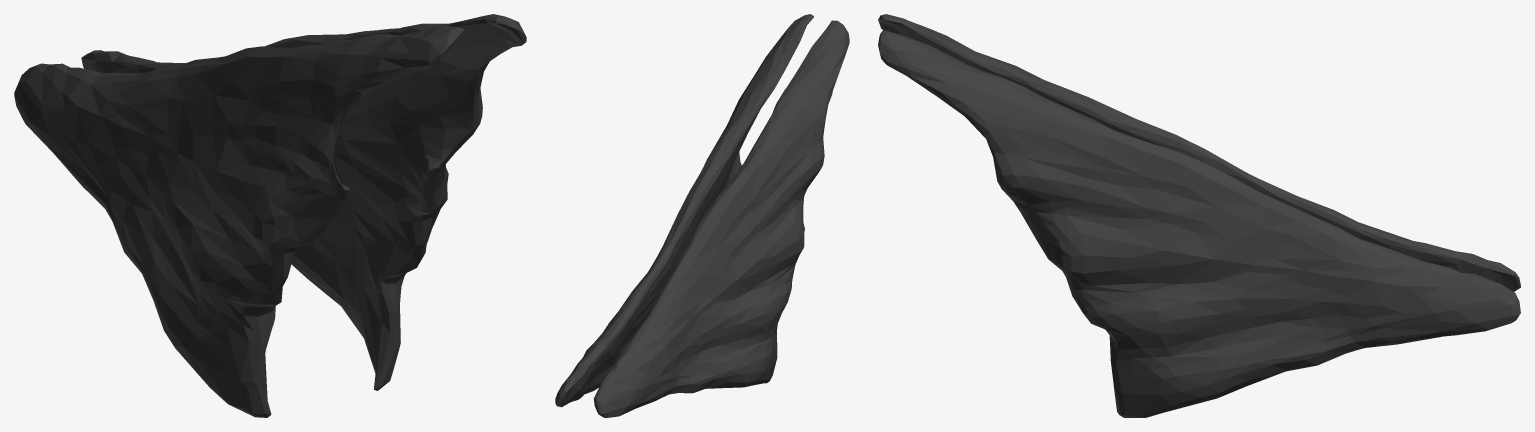
The model's file is m_splenius.glb.
3 views of the same model, side by side, from view 1: azimuth 30°, elevation 25°; view 2: azimuth 150°, elevation 25°; view 3: azimuth 270°, elevation 25° (orthographic). The views are drawn at different scales.
Parts seen in each view (by area): view 1: m_splenius; view 2: m_splenius; view 3: m_splenius.
Part boxes in pixels (x1,y1,x2,y2): m_splenius: [14, 14, 526, 417]; m_splenius: [555, 14, 849, 417]; m_splenius: [878, 14, 1520, 417].
Bounding box in the file's own units: 0.00289 × 0.00704 × 0.011.
Materials: 1 (1 with a texture image).
